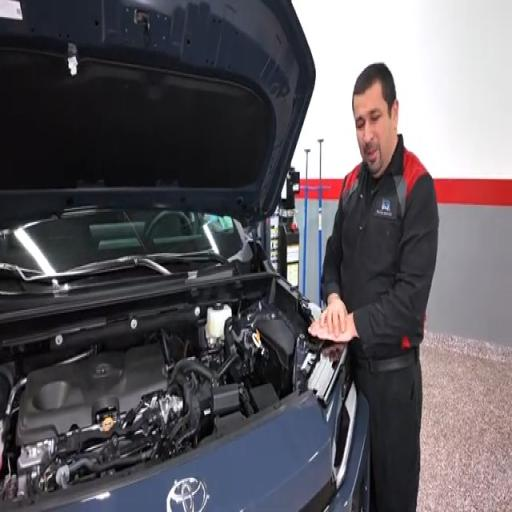bumper: (35, 393, 369, 511), (326, 393, 369, 511)
emblem: (167, 477, 208, 511)
hood: (0, 0, 315, 226)
windshield: (0, 210, 243, 274)
